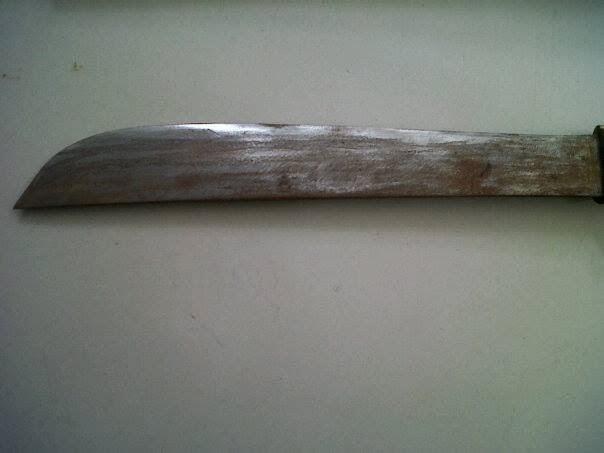facao: (15, 123, 603, 208)
